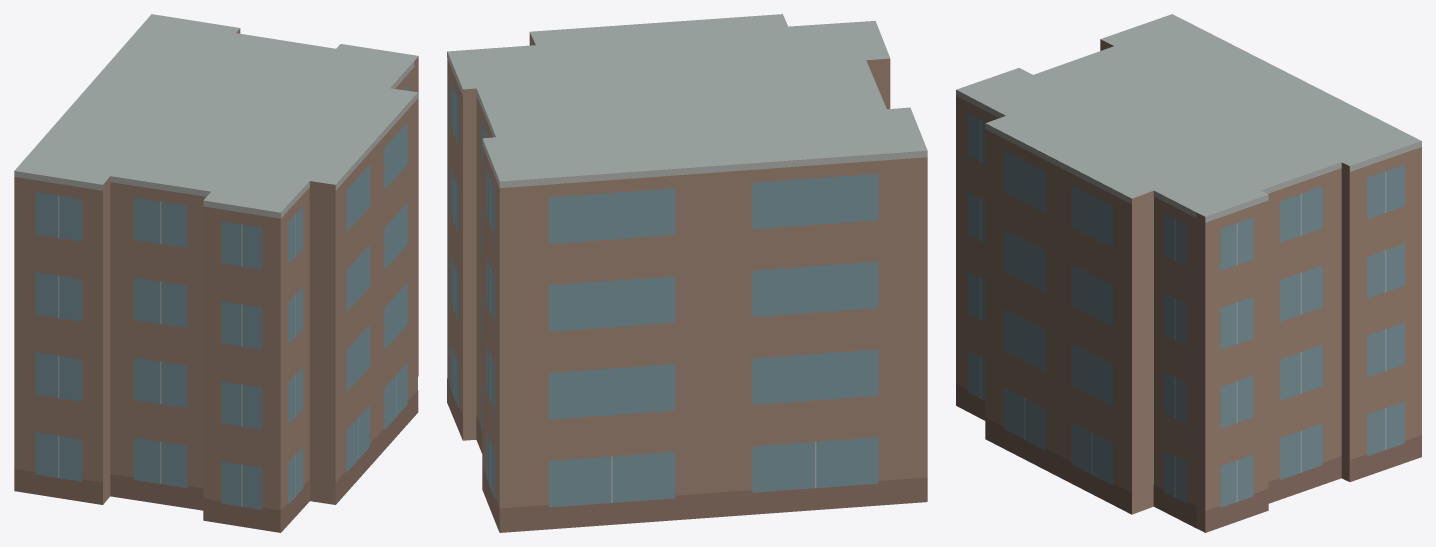
The model's file is survey-upis-32641360.glb.
3 views of the same model, side by side, from view 1: azimuth 30°, elevation 25°; view 2: azimuth 150°, elevation 25°; view 3: azimuth 270°, elevation 25° (orthographic). The views are drawn at different scales.
Visible parts, largest first — view 1: survey-upis-32641360.tmp; view 2: survey-upis-32641360.tmp; view 3: survey-upis-32641360.tmp.
Boxes of the visible parts, box(x1,y1,x2,y2) form: survey-upis-32641360.tmp: box(14, 14, 418, 532); survey-upis-32641360.tmp: box(447, 14, 927, 532); survey-upis-32641360.tmp: box(956, 14, 1421, 532).
Bounding box in the file's own units: 18.04 × 13.1 × 17.51.
